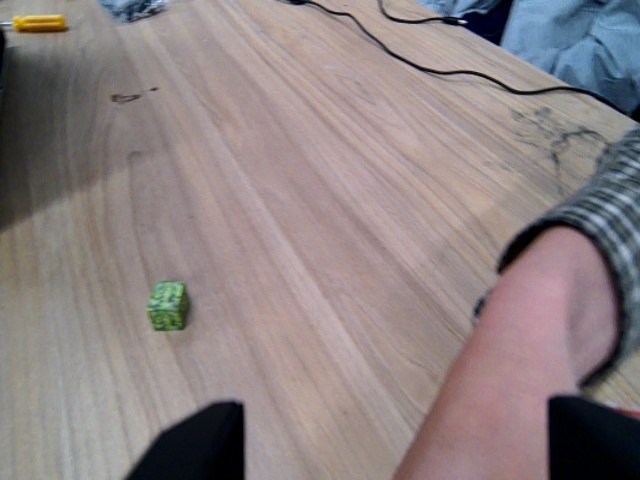grass: (143, 281, 191, 334)
